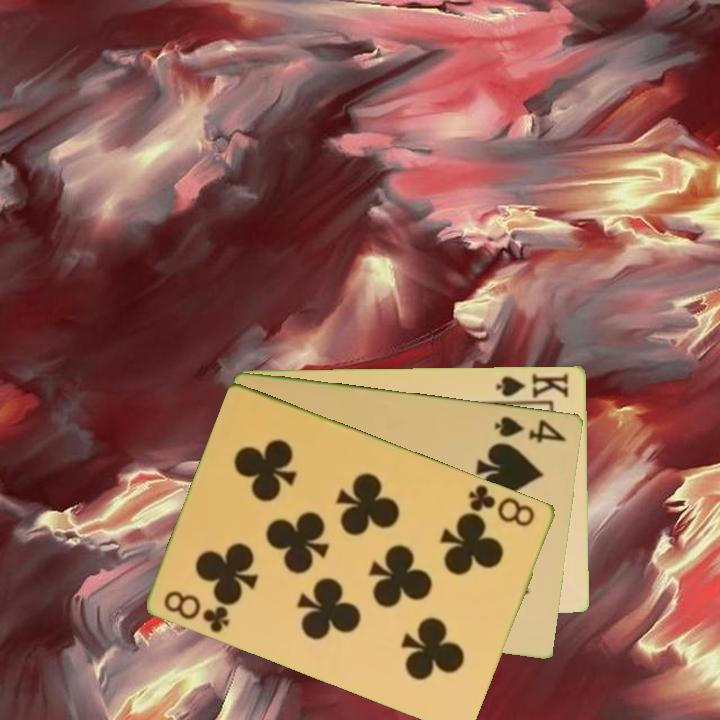4s: (491, 412, 570, 445)
8c: (161, 586, 234, 636), (465, 481, 539, 530)
Ks: (493, 369, 572, 404)
